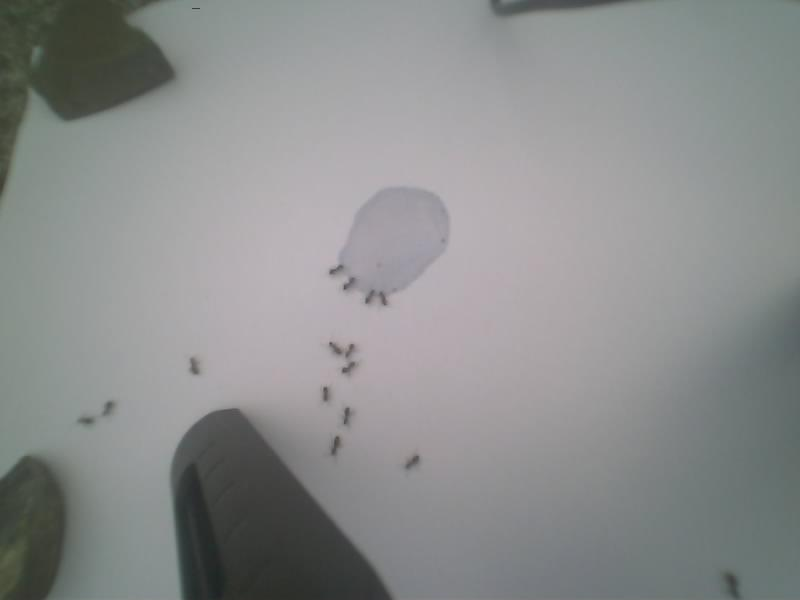Ant: (725, 573, 741, 598), (405, 454, 421, 470), (328, 341, 343, 356), (331, 434, 341, 456), (341, 360, 356, 374), (190, 356, 201, 374), (102, 402, 116, 416), (341, 407, 351, 426), (344, 343, 356, 358), (77, 416, 97, 425), (343, 278, 357, 290), (365, 290, 376, 305), (329, 265, 345, 275), (321, 386, 330, 403), (378, 290, 387, 306)
